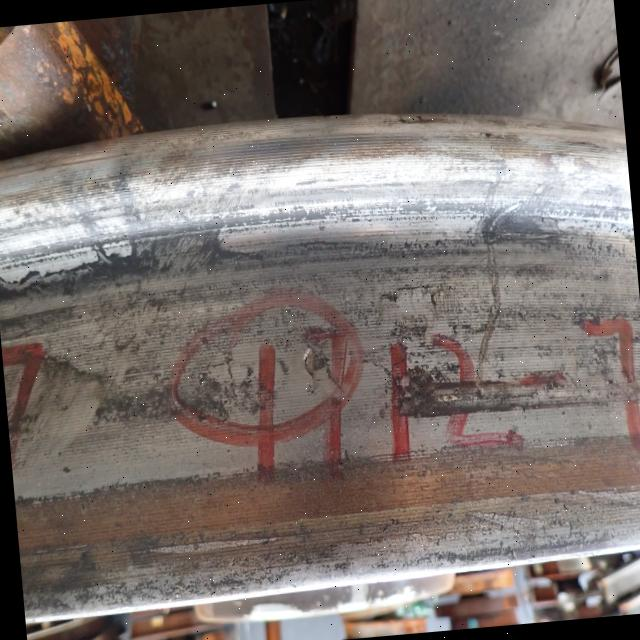Contact_Fatigue_Cracks: (170, 372, 279, 424), (467, 503, 550, 542)
Peeling: (302, 344, 331, 379)
